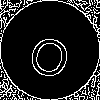O: (25, 25, 77, 81)
